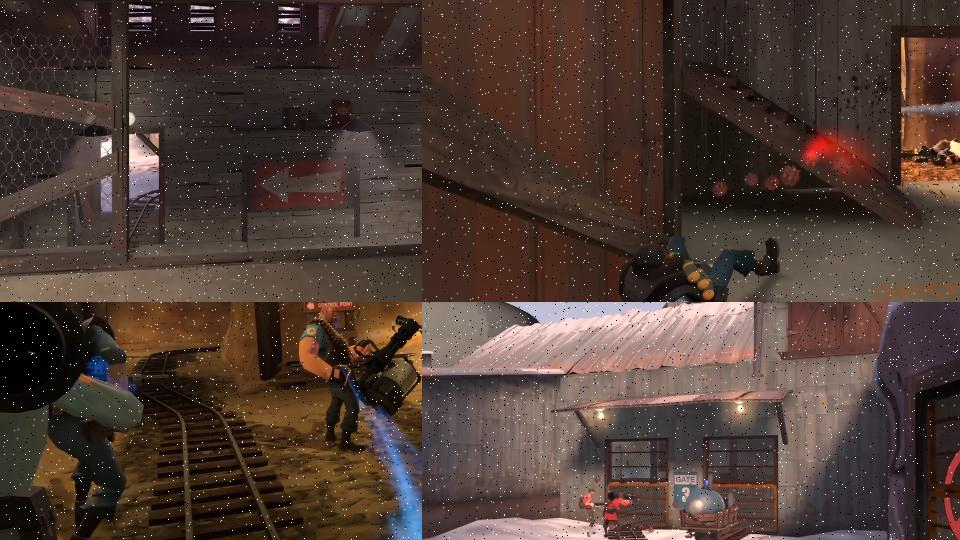Enemy: (0, 302, 142, 540), (298, 304, 421, 453), (616, 232, 782, 302), (396, 303, 422, 422), (602, 491, 638, 539), (578, 488, 607, 538), (950, 139, 960, 167)
